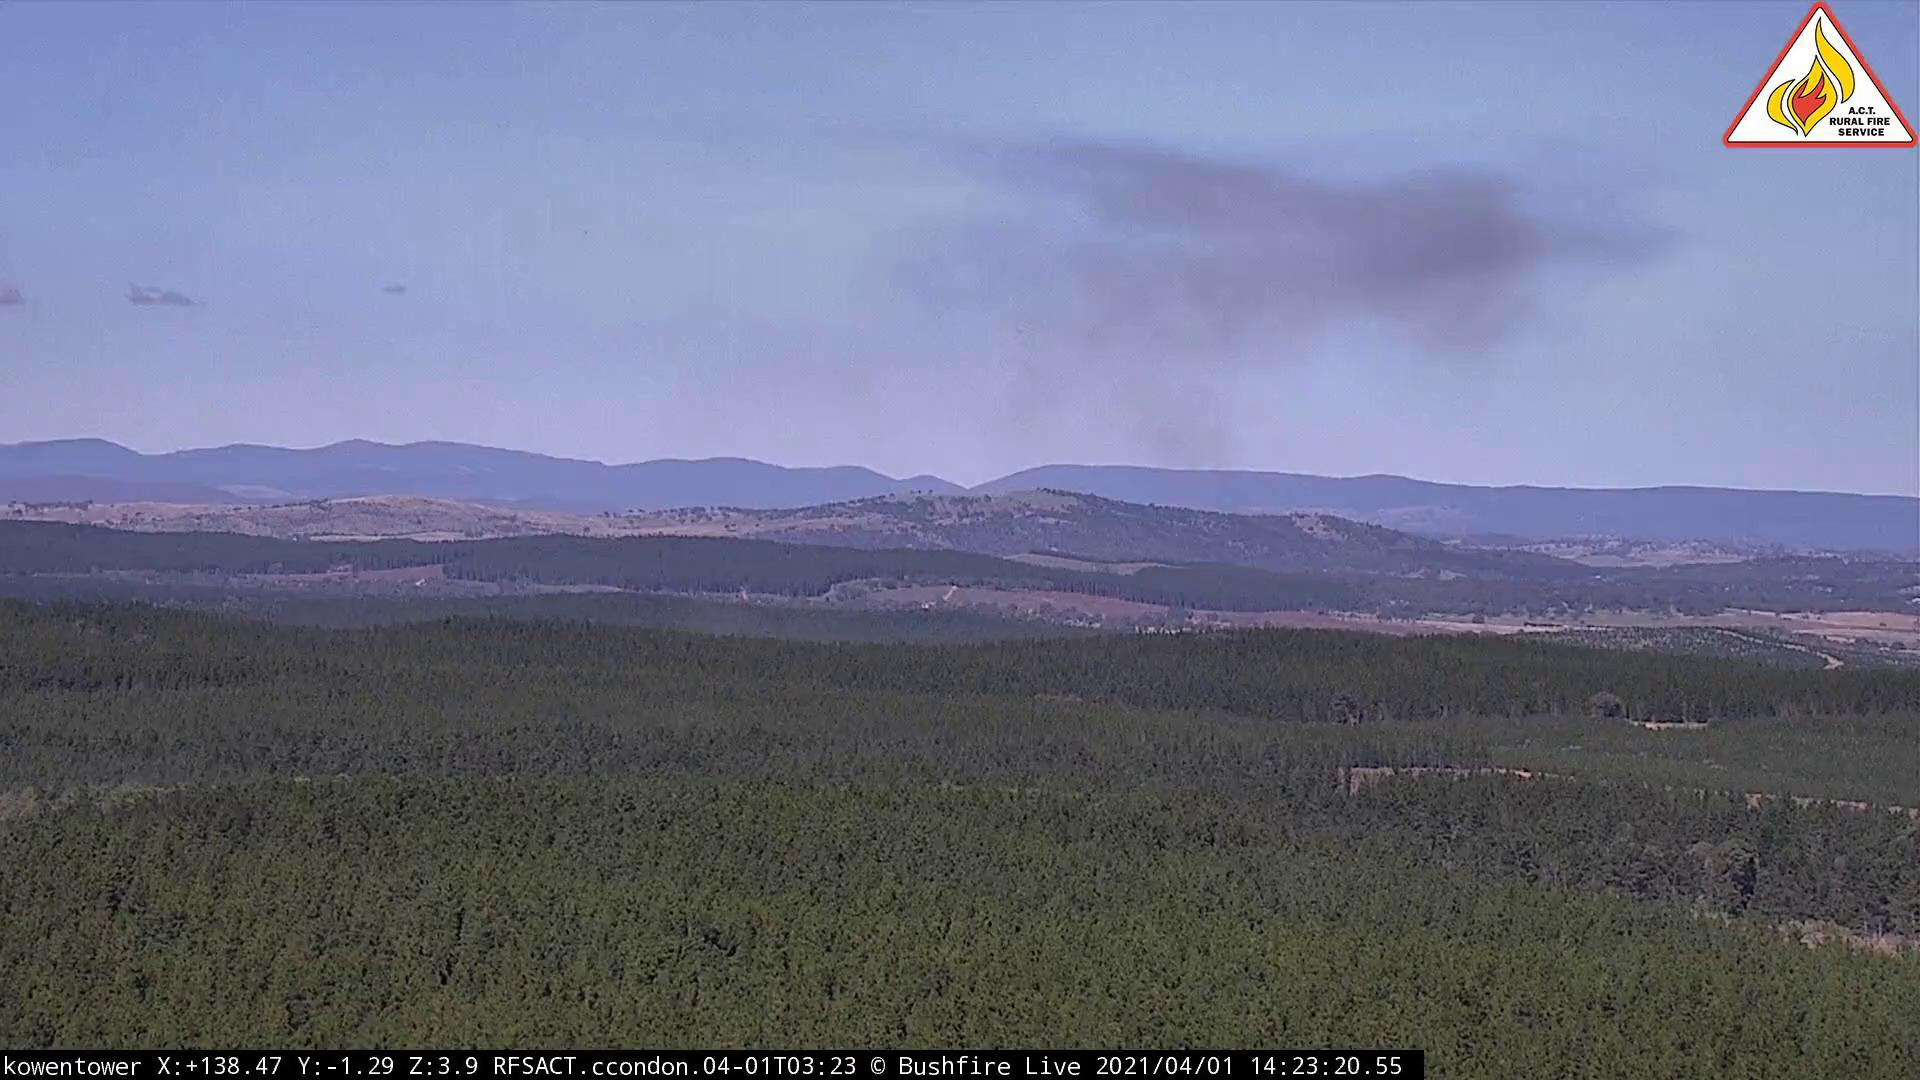Smoke: (779, 121, 1693, 502)
